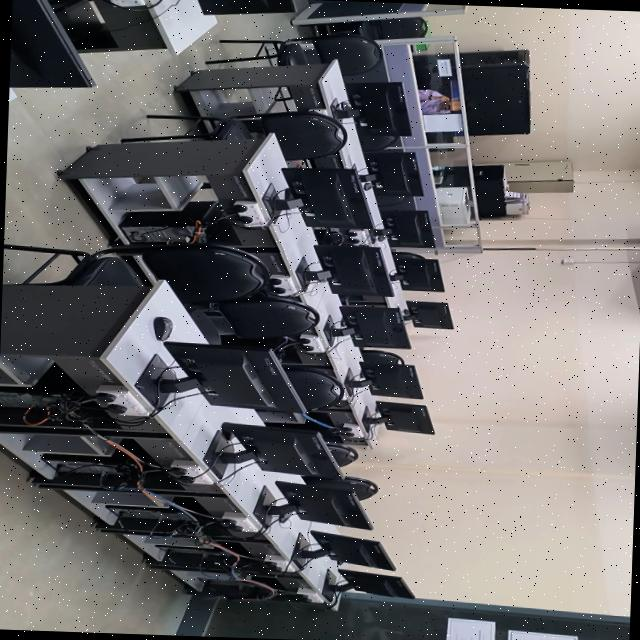Chair: (2, 243, 267, 303), (120, 111, 345, 160), (205, 33, 381, 75), (184, 294, 318, 343), (315, 17, 427, 40), (284, 368, 343, 411), (301, 476, 377, 500), (357, 127, 397, 152), (326, 442, 357, 467), (359, 349, 404, 364), (375, 190, 406, 206)
Cpu: (119, 214, 194, 243), (53, 461, 120, 475), (0, 393, 55, 407)
Monitor: (165, 342, 303, 412), (219, 423, 340, 477), (273, 167, 371, 229), (254, 481, 372, 529), (302, 244, 392, 296), (292, 530, 394, 570), (344, 82, 410, 138), (324, 306, 409, 348), (345, 362, 422, 398), (364, 150, 421, 196), (327, 569, 413, 598), (369, 401, 433, 434), (392, 252, 443, 292), (381, 209, 432, 247), (402, 301, 452, 329)
Mouse: (153, 317, 172, 341)
